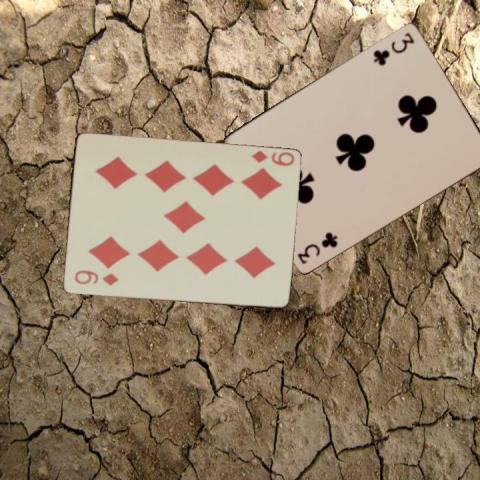3c: (370, 29, 416, 67), (294, 228, 339, 264)
9d: (249, 148, 296, 168), (71, 268, 120, 287)
